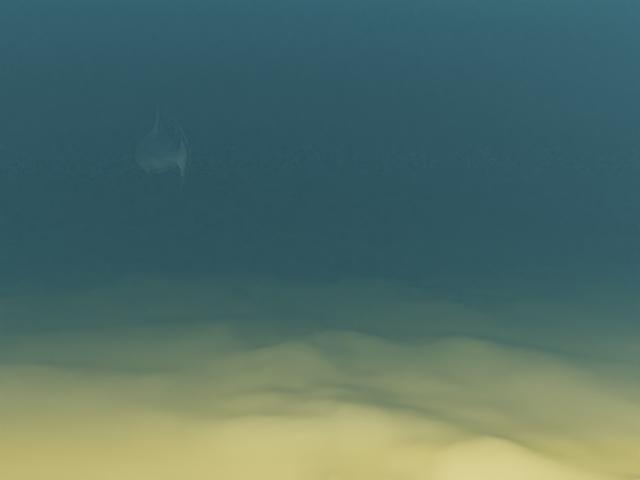Carribean Shark.001: (87, 103, 228, 189)
